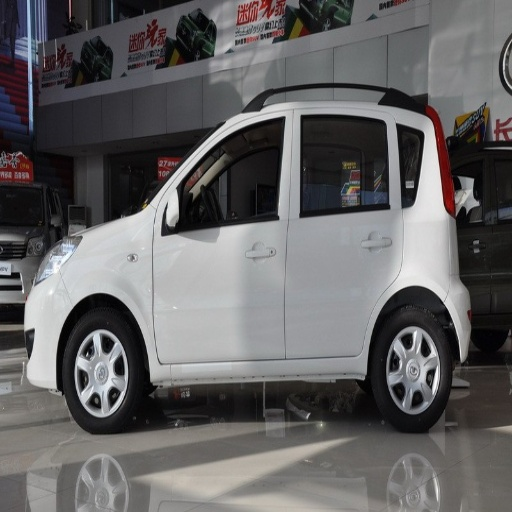back_left_door: (288, 113, 401, 361)
front_left_door: (153, 112, 291, 372)
